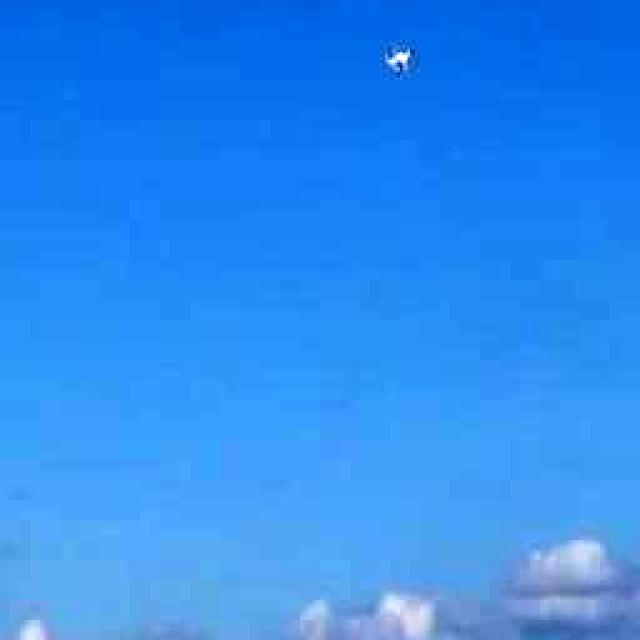bird: (375, 19, 425, 96)
